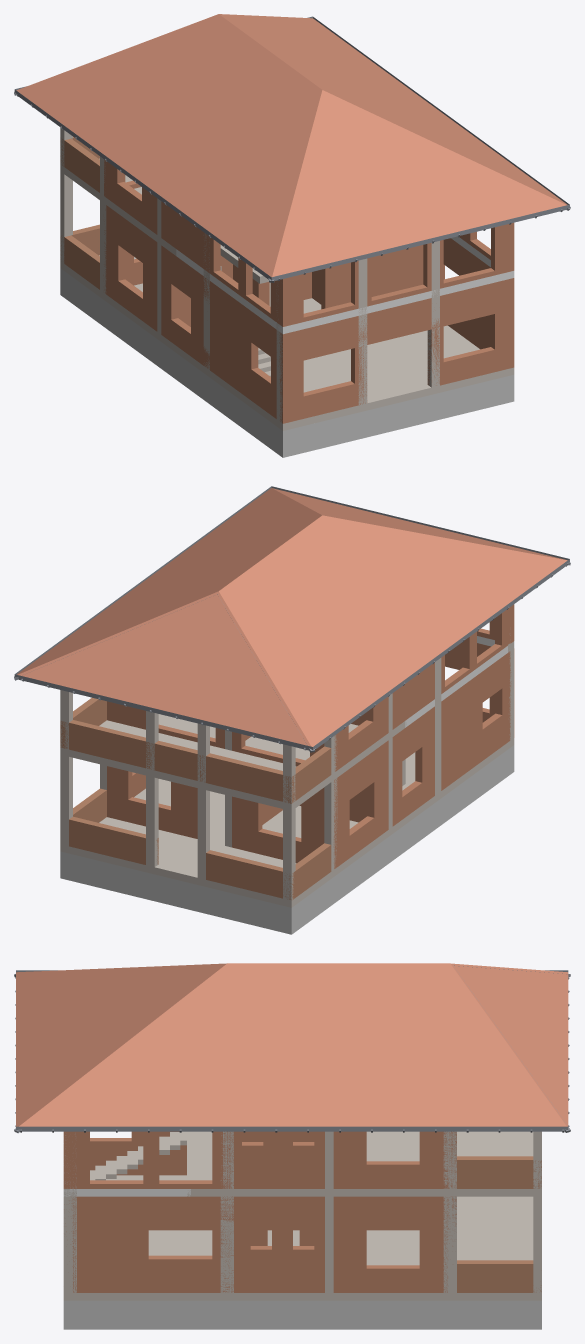
The model's file is konkan_house.glb.
The picture shows the model from 3 angles, top to bottom: view 1: azimuth 30°, elevation 25°; view 2: azimuth 150°, elevation 25°; view 3: azimuth 270°, elevation 25°; orthographic projection. The views are drawn at different scales.
Visible parts, largest first — view 1: Hip_Roof, Living_Kitchen_South, Plinth, Floor_Slab_0, Living_Kitchen_West, Bedroom_1_West, Living_Kitchen_2_South, Living_Kitchen_2_West, Bathroom_1_South, Living_Kitchen_East, Bedroom_2_West, Staircase_Landing_West (+18 smaller); view 2: Hip_Roof, Plinth, Living_Kitchen_West, Floor_Slab_0, Upper_Verandah_North, Verandah_North, Floor_Slab_1, Bedroom_1_West, Bedroom_1_North, Workshop_North, Pillar_0_First_Pillar_1, Bedroom_2_West (+20 smaller); view 3: Hip_Roof, Living_Kitchen_East, Plinth, Floor_Slab_0, Workshop_East, Floor_Slab_1, Bedroom_3_East, Bathroom_2_East, Living_Kitchen_2_East, pani_patti_E, Verandah_East, Upper_Verandah_East (+10 smaller).
Part boxes in pixels (box(x1,y1,x2,y2)): Hip_Roof: box(16, 14, 567, 277); Living_Kitchen_South: box(279, 278, 514, 423); Plinth: box(60, 268, 514, 457); Floor_Slab_0: box(60, 255, 514, 430); Living_Kitchen_West: box(161, 245, 278, 418); Bedroom_1_West: box(104, 205, 157, 331); Living_Kitchen_2_South: box(279, 224, 507, 325); Living_Kitchen_2_West: box(208, 236, 289, 326); Bathroom_1_South: box(371, 245, 423, 296); Living_Kitchen_East: box(443, 238, 490, 349); Bedroom_2_West: box(104, 159, 157, 234); Staircase_Landing_West: box(161, 201, 208, 272); Hip_Roof: box(17, 488, 567, 746); Plinth: box(60, 745, 514, 934); Living_Kitchen_West: box(392, 651, 510, 826); Floor_Slab_0: box(60, 738, 514, 907); Upper_Verandah_North: box(60, 720, 295, 803); Verandah_North: box(69, 816, 295, 899); Floor_Slab_1: box(62, 714, 406, 810); Bedroom_1_West: box(335, 740, 388, 868); Bedroom_1_North: box(232, 780, 335, 868); Workshop_North: box(107, 766, 197, 838); Pillar_0_First_Pillar_1: box(283, 744, 295, 900); Bedroom_2_West: box(335, 697, 388, 771); Hip_Roof: box(16, 963, 568, 1126); Living_Kitchen_East: box(72, 1196, 324, 1292); Plinth: box(63, 1300, 541, 1329); Floor_Slab_0: box(63, 1175, 541, 1300); Workshop_East: box(333, 1196, 448, 1292); Floor_Slab_1: box(293, 1131, 541, 1196); Bedroom_3_East: box(333, 1131, 448, 1188); Bathroom_2_East: box(231, 1131, 324, 1188); Living_Kitchen_2_East: box(63, 1131, 222, 1188); pani_patti_E: box(16, 1126, 568, 1131); Verandah_East: box(457, 1260, 533, 1292); Upper_Verandah_East: box(457, 1156, 533, 1188).
Bounding box in the file's own units: 35.26 × 31.7 × 52.4.
